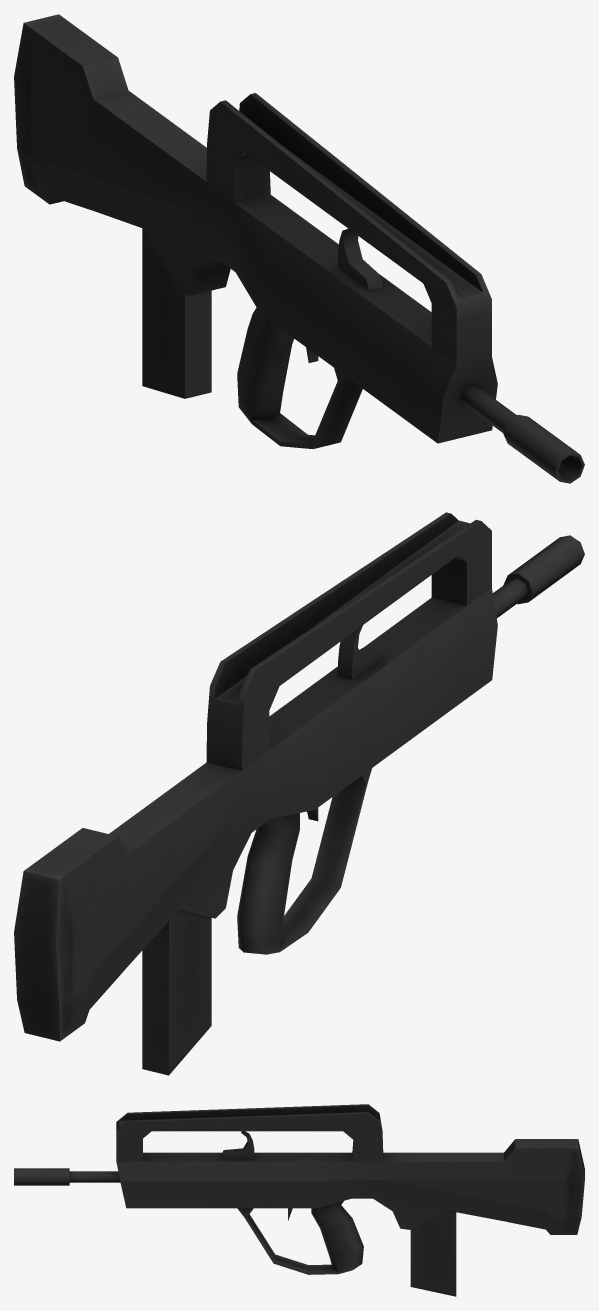
The model's file is Famas.fbx.
The picture shows the model from 3 angles, top to bottom: view 1: azimuth 30°, elevation 25°; view 2: azimuth 150°, elevation 25°; view 3: azimuth 270°, elevation 25°; orthographic projection. The views are drawn at different scales.
Parts seen in each view (by area): view 1: Famas; view 2: Famas; view 3: Famas.
Boxes of the visible parts, x1=… form: Famas: x1=14, y1=14, x2=584, y2=483; Famas: x1=14, y1=512, x2=584, y2=1075; Famas: x1=14, y1=1104, x2=584, y2=1296.
Bounding box in the file's own units: 4.69 × 28.49 × 79.87.
